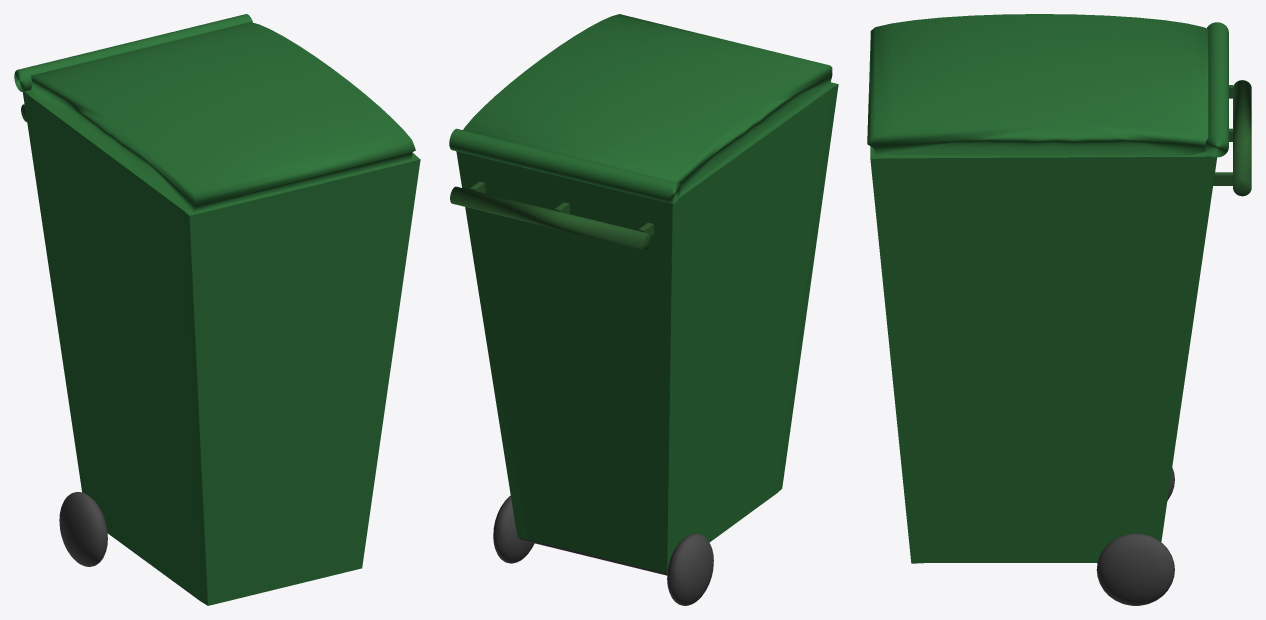
The model's file is wheely bin.fbx.
3 views of the same model, side by side, from view 1: azimuth 30°, elevation 25°; view 2: azimuth 150°, elevation 25°; view 3: azimuth 270°, elevation 25° (orthographic). The views are drawn at different scales.
Parts seen in each view (by area): view 1: Cube.002, Cylinder.001, Cylinder; view 2: Cube.002, Cylinder.001, Cylinder, Cube.001; view 3: Cube.002, Cylinder.001, Cylinder, Cube.001.
Boxes of the visible parts, <box> form: Cube.002: <box>22,90,420,605</box>; Cylinder.001: <box>31,22,415,212</box>; Cylinder: <box>14,14,252,91</box>; Cube.002: <box>456,82,838,605</box>; Cylinder.001: <box>463,14,832,192</box>; Cylinder: <box>449,128,680,203</box>; Cube.001: <box>450,181,654,250</box>; Cube.002: <box>870,146,1216,605</box>; Cylinder.001: <box>867,14,1208,155</box>; Cylinder: <box>1205,22,1228,157</box>; Cube.001: <box>1213,80,1251,196</box>.
Size of the model in its own units: 233 by 463 by 328.
